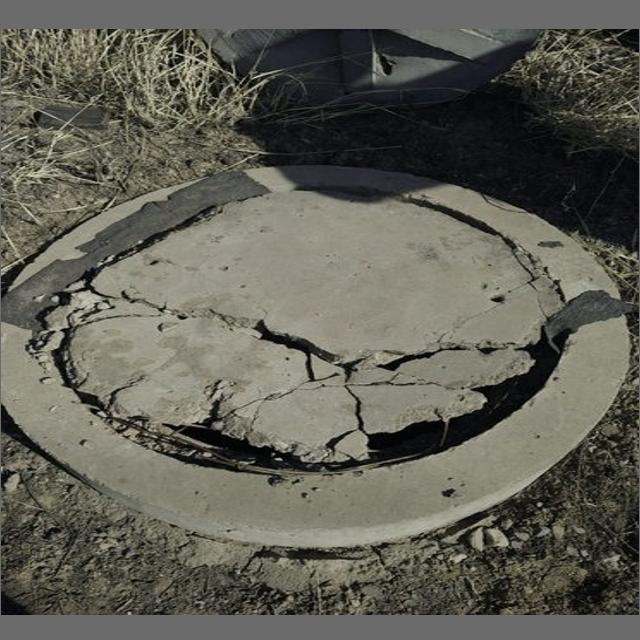broke: (19, 161, 609, 538)
